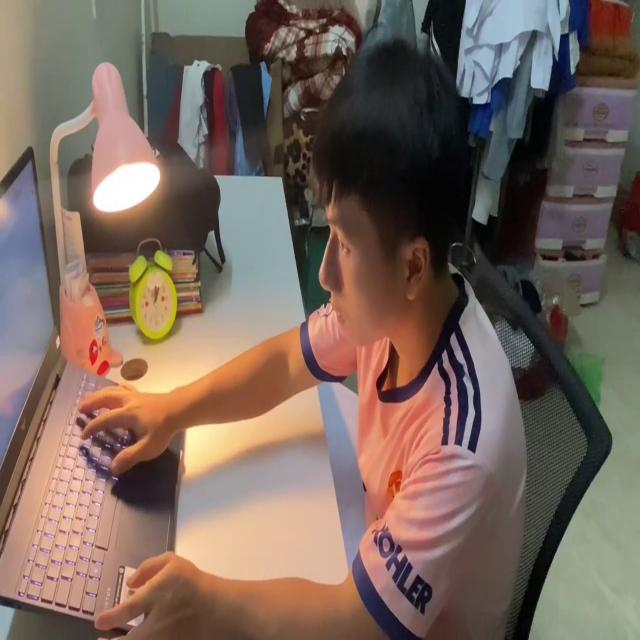book: (316, 368, 370, 586)
laptop: (1, 141, 190, 640)
student: (75, 33, 528, 640)
